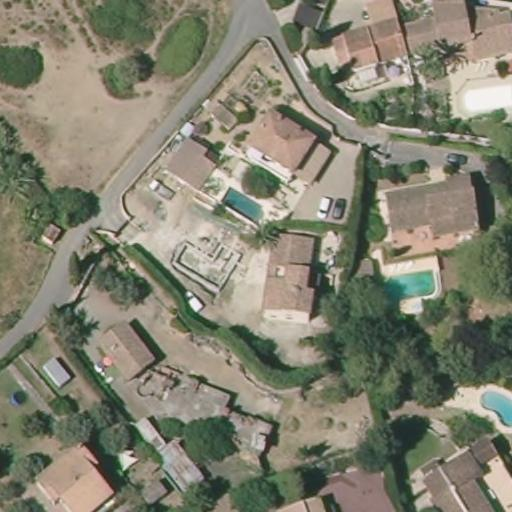pool: (368, 261, 440, 304), (215, 183, 269, 229), (476, 382, 511, 430)
